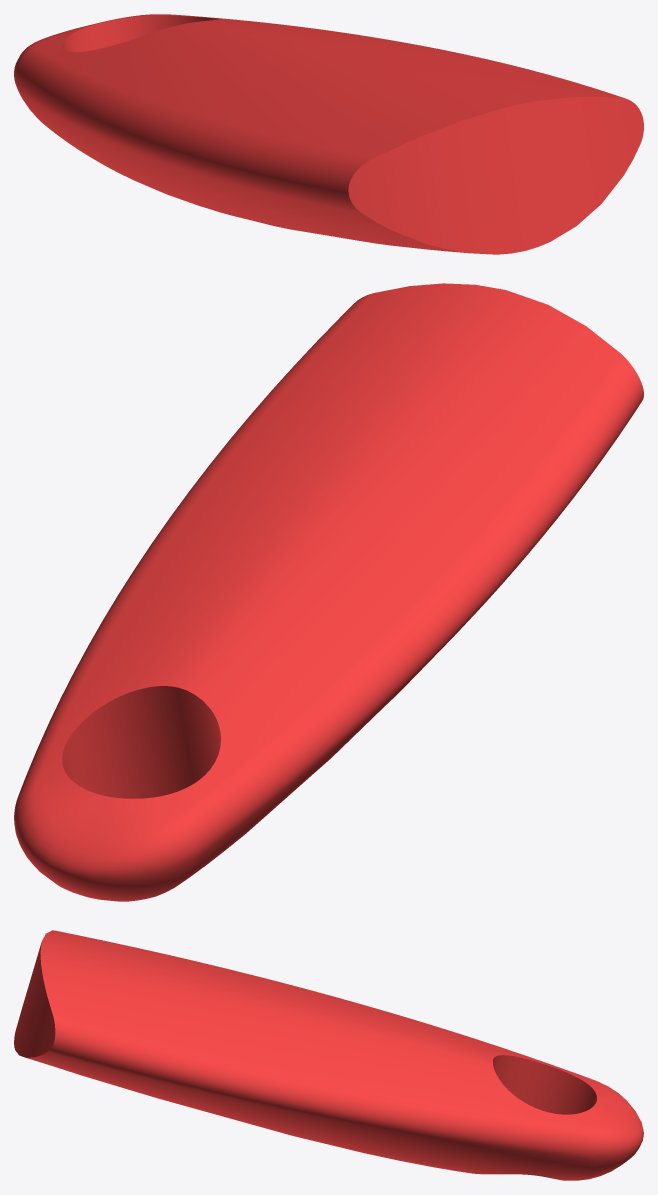
File: kool-mandoline-handletpe.glb
3 views of the same model, one above another, from view 1: azimuth 30°, elevation 25°; view 2: azimuth 150°, elevation 25°; view 3: azimuth 270°, elevation 25° (orthographic). The views are drawn at different scales.
Visible parts, largest first — view 1: frame; view 2: frame; view 3: frame.
Part boxes in pixels (x1=…): frame: x1=14, y1=14, x2=643, y2=254; frame: x1=14, y1=283, x2=643, y2=901; frame: x1=14, y1=930, x2=643, y2=1180.
Size of the model in its own units: 0.034 by 0.0328 by 0.085.
